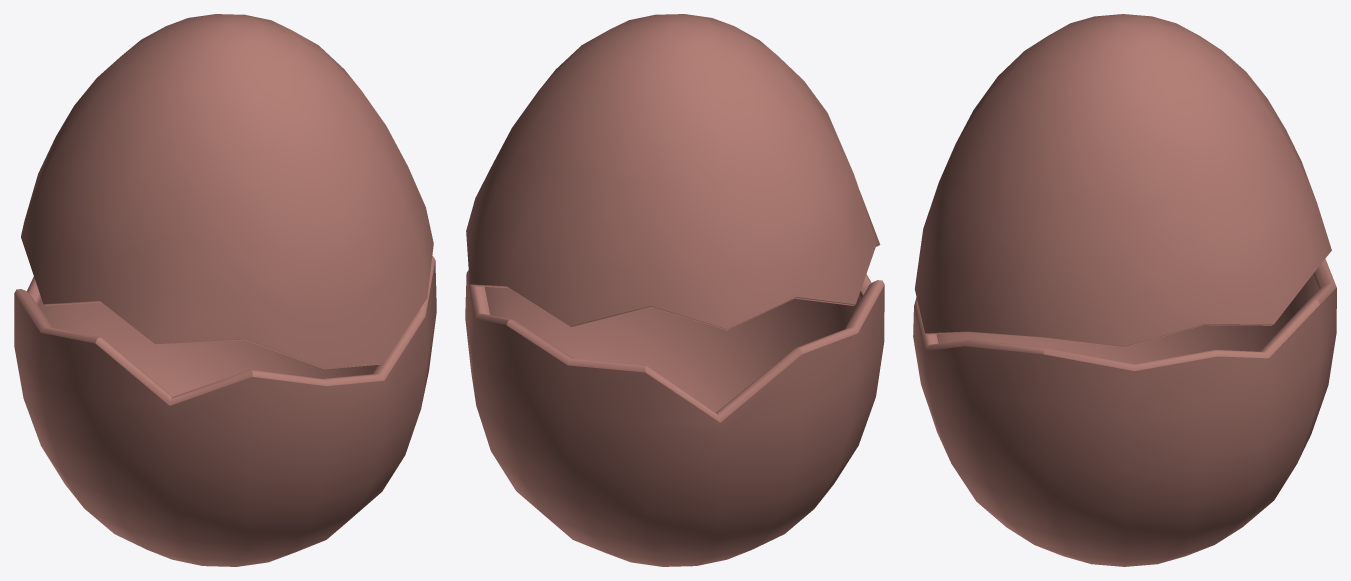
The model's file is cracked_egg_model.fbx.
3 renders of one model, left to right at view 1: azimuth 30°, elevation 25°; view 2: azimuth 150°, elevation 25°; view 3: azimuth 270°, elevation 25°, orthographic.
Visible parts, largest first — view 1: cracked_egg; view 2: cracked_egg; view 3: cracked_egg.
Boxes of the visible parts, bbox=[...] form: cracked_egg: bbox=[14, 14, 436, 566]; cracked_egg: bbox=[465, 14, 884, 566]; cracked_egg: bbox=[913, 14, 1336, 566].
Bounding box in the file's own units: 5.48 × 7.46 × 5.48.
